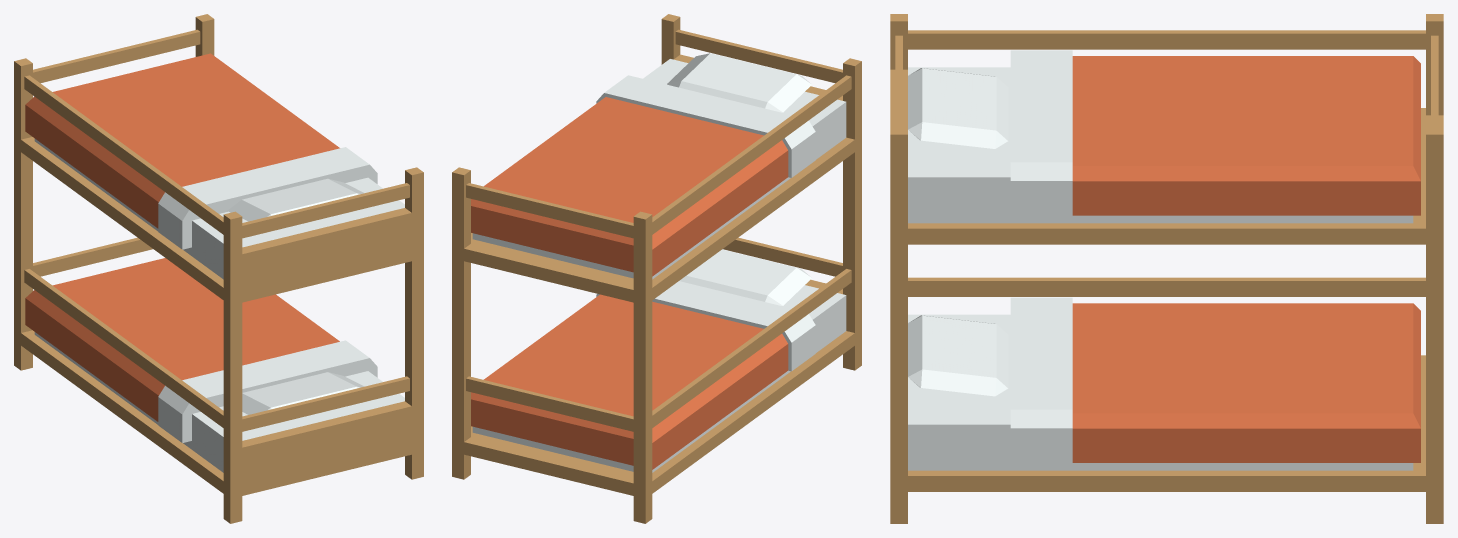
The model's file is bedBunk.glb.
3 views of the same model, side by side, from view 1: azimuth 30°, elevation 25°; view 2: azimuth 150°, elevation 25°; view 3: azimuth 270°, elevation 25° (orthographic). The views are drawn at different scales.
Size of the model in its own units: 5.71 by 8.5 by 10.95.
